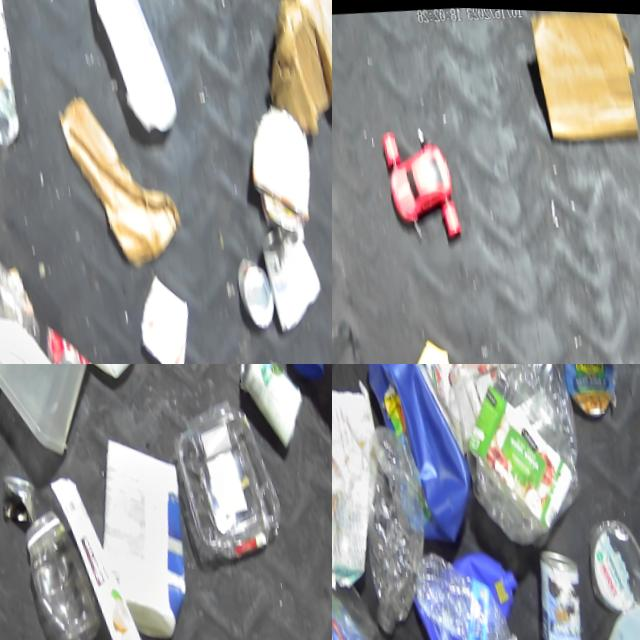can: (249, 218, 318, 328), (514, 540, 581, 640), (230, 364, 308, 449), (550, 364, 621, 420), (224, 250, 268, 326), (31, 320, 85, 364)
milk_jug: (0, 304, 69, 364), (573, 587, 640, 640)
non_white_jug: (351, 364, 472, 547)
plastic_bottle: (439, 364, 585, 548), (333, 418, 437, 637), (396, 538, 512, 640)
